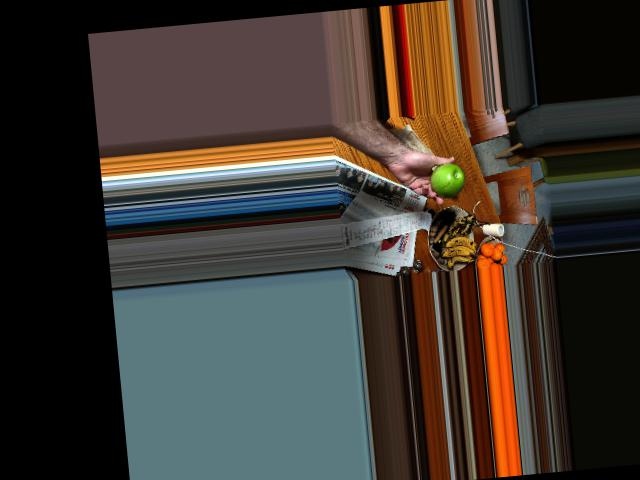apple: (427, 163, 468, 198)
